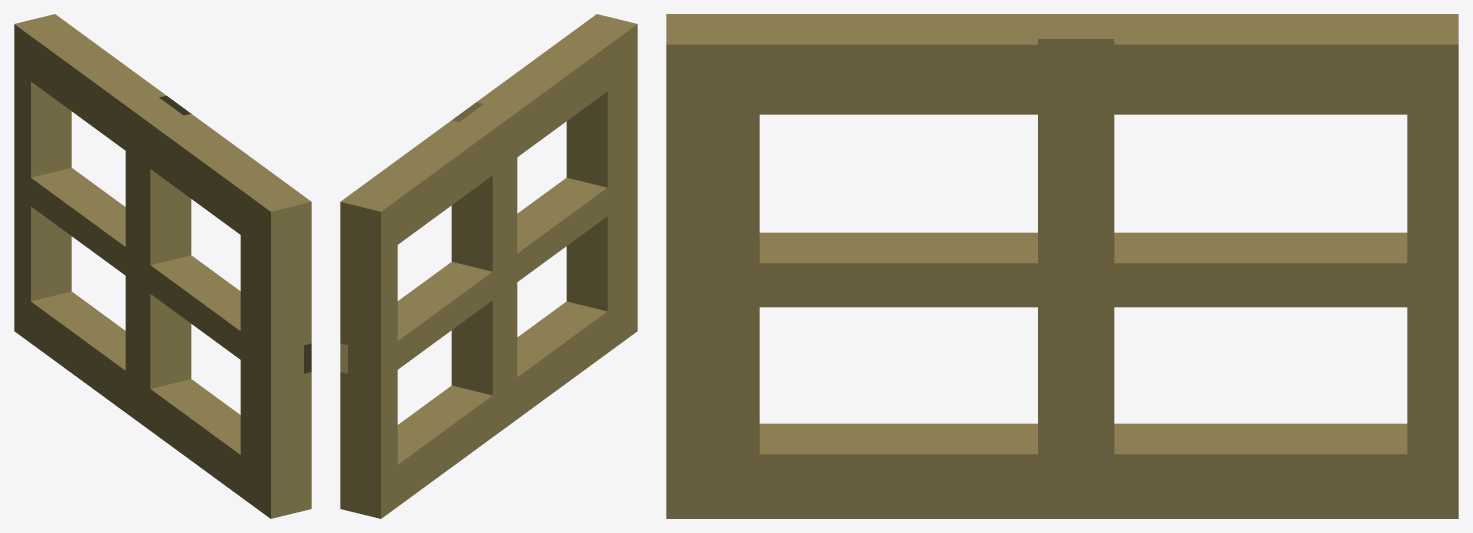
The model's file is window.fbx.
The picture shows the model from 3 angles, left to right: view 1: azimuth 30°, elevation 25°; view 2: azimuth 150°, elevation 25°; view 3: azimuth 270°, elevation 25°; orthographic projection. The views are drawn at different scales.
Visible parts, largest first — view 1: windowPane; view 2: windowPane; view 3: windowPane.
Part boxes in pixels (x1,y1,x2,y2): windowPane: [14, 14, 311, 518]; windowPane: [340, 14, 637, 518]; windowPane: [666, 14, 1458, 518].
Size of the model in its own units: 9.89 by 70.97 by 107.
